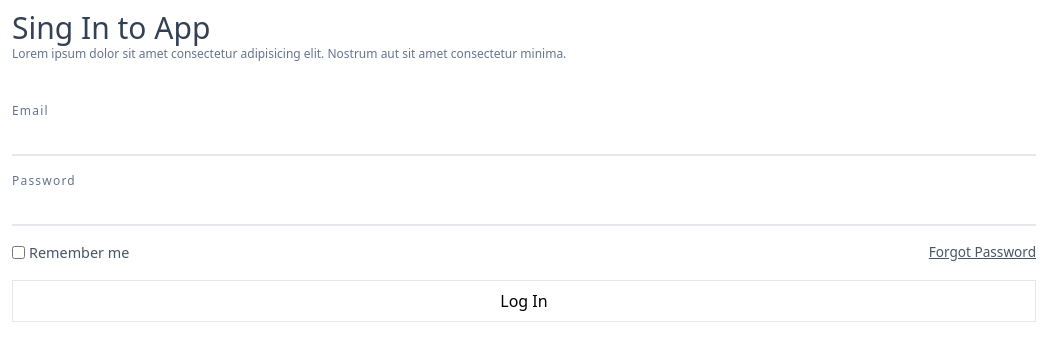
Test case: Login › should display min length error when password is invalid
Type "test@mail.com" into the field labelled "Email" at (524, 138), box [12, 120, 1036, 156]
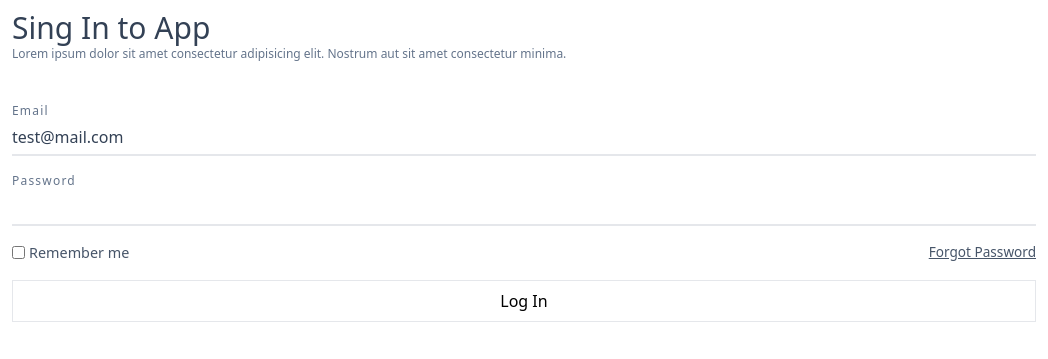
Type "12" into the password field labelled "Password" at (524, 208), box [12, 190, 1036, 226]
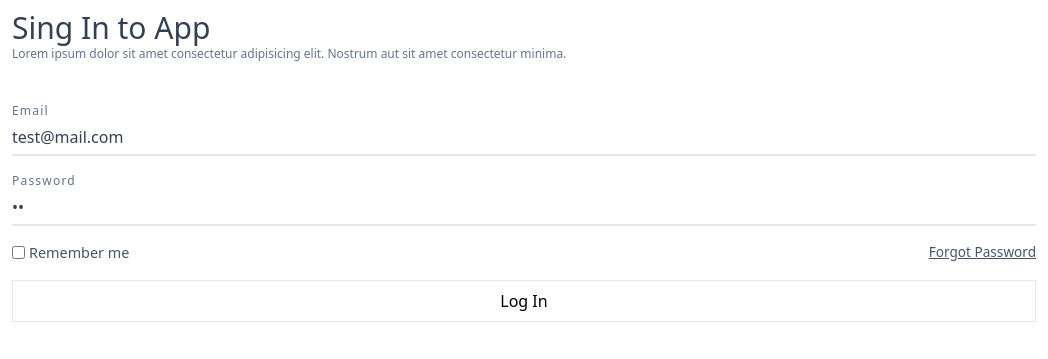
Submit the form from the button, box [12, 280, 1036, 322]
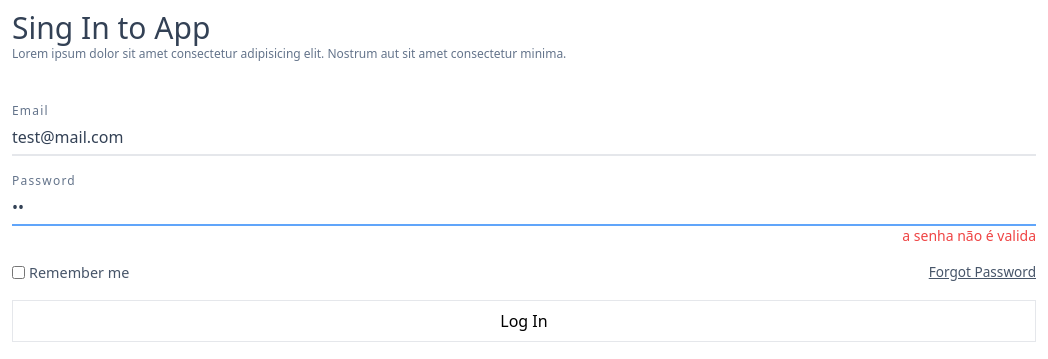
expect the number of messages is 1: met, box [902, 226, 1036, 245]
